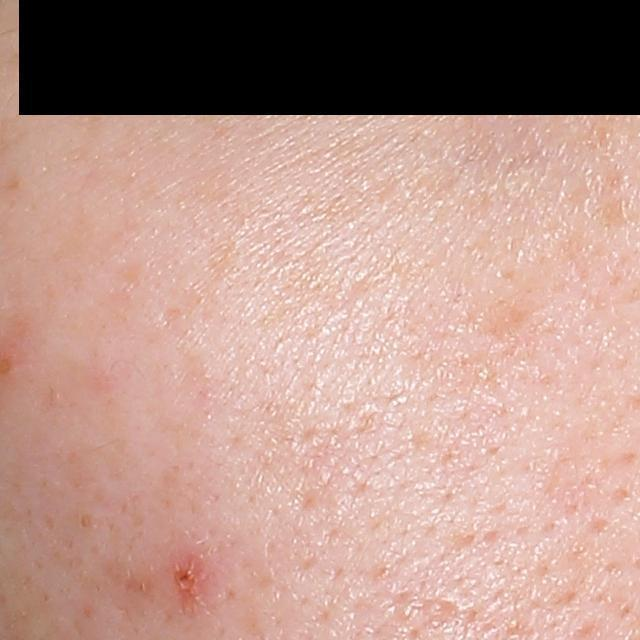comedo: (71, 510, 97, 534)
papule: (160, 547, 221, 617)
